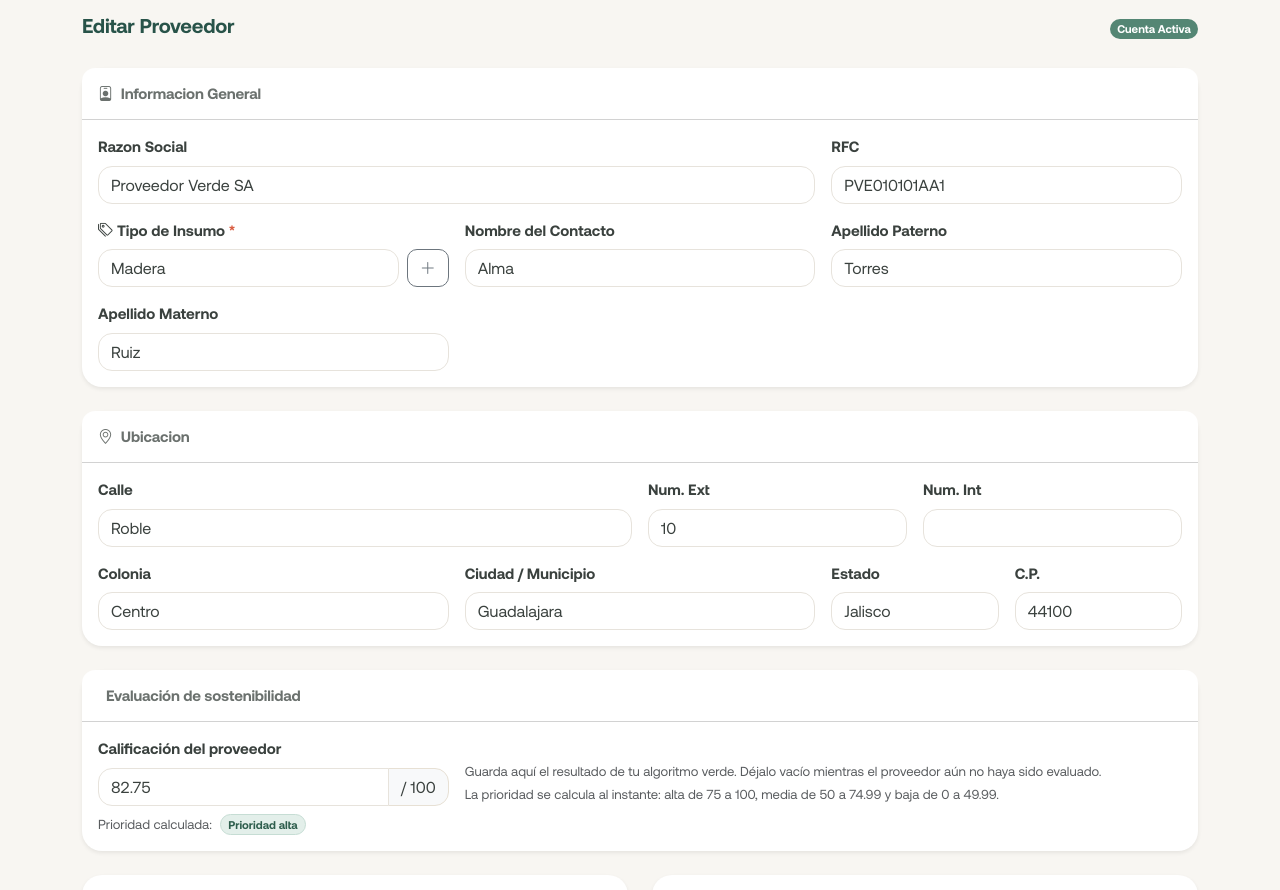
Test case: ProveedorForm › rechaza una calificacion con mas de dos decimales
Replace the text in the number field labelled "Calificación del proveedor" with "74.999": coordinates (244, 787) [98, 768, 389, 806]
(page scrolled)
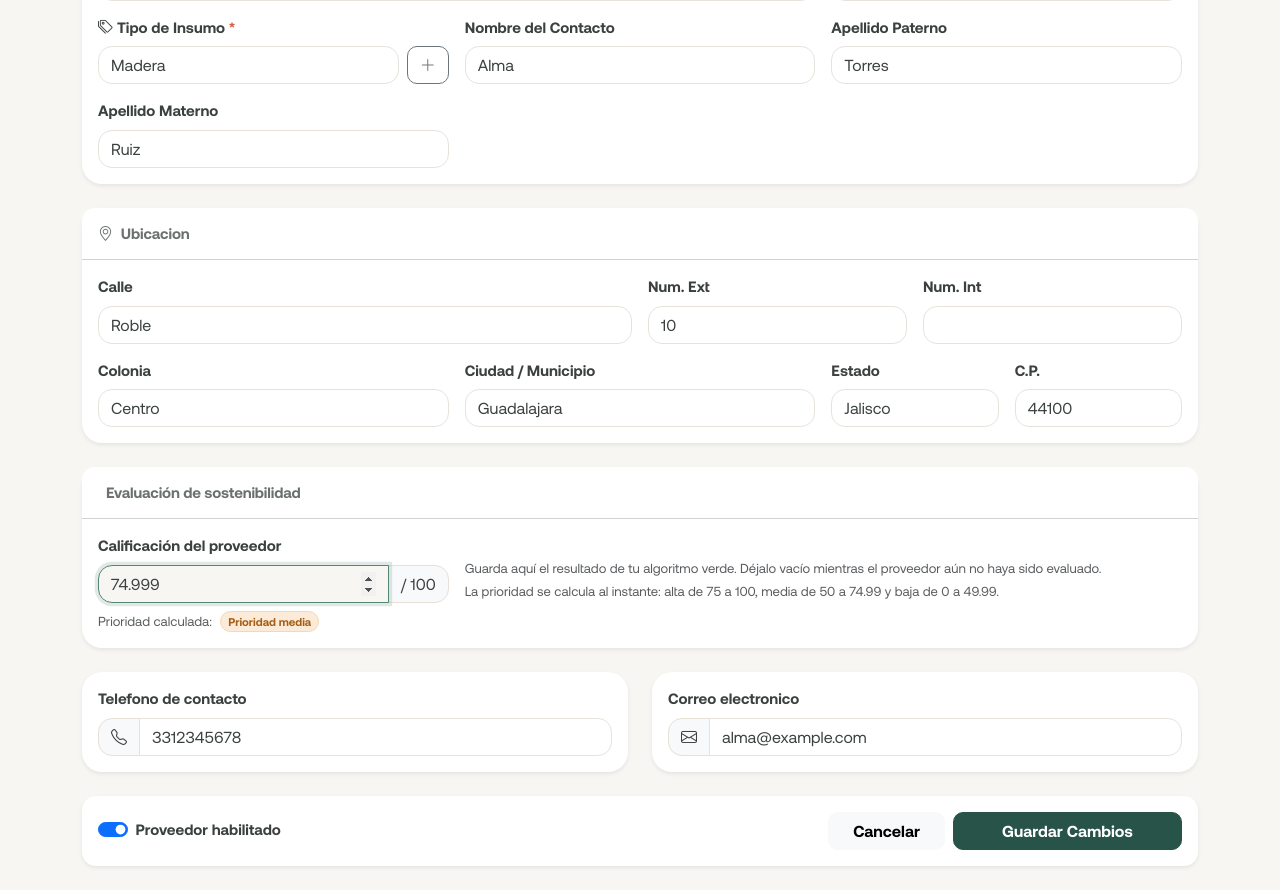
Click the button "Guardar Cambios": coordinates (1067, 831) [953, 812, 1182, 850]
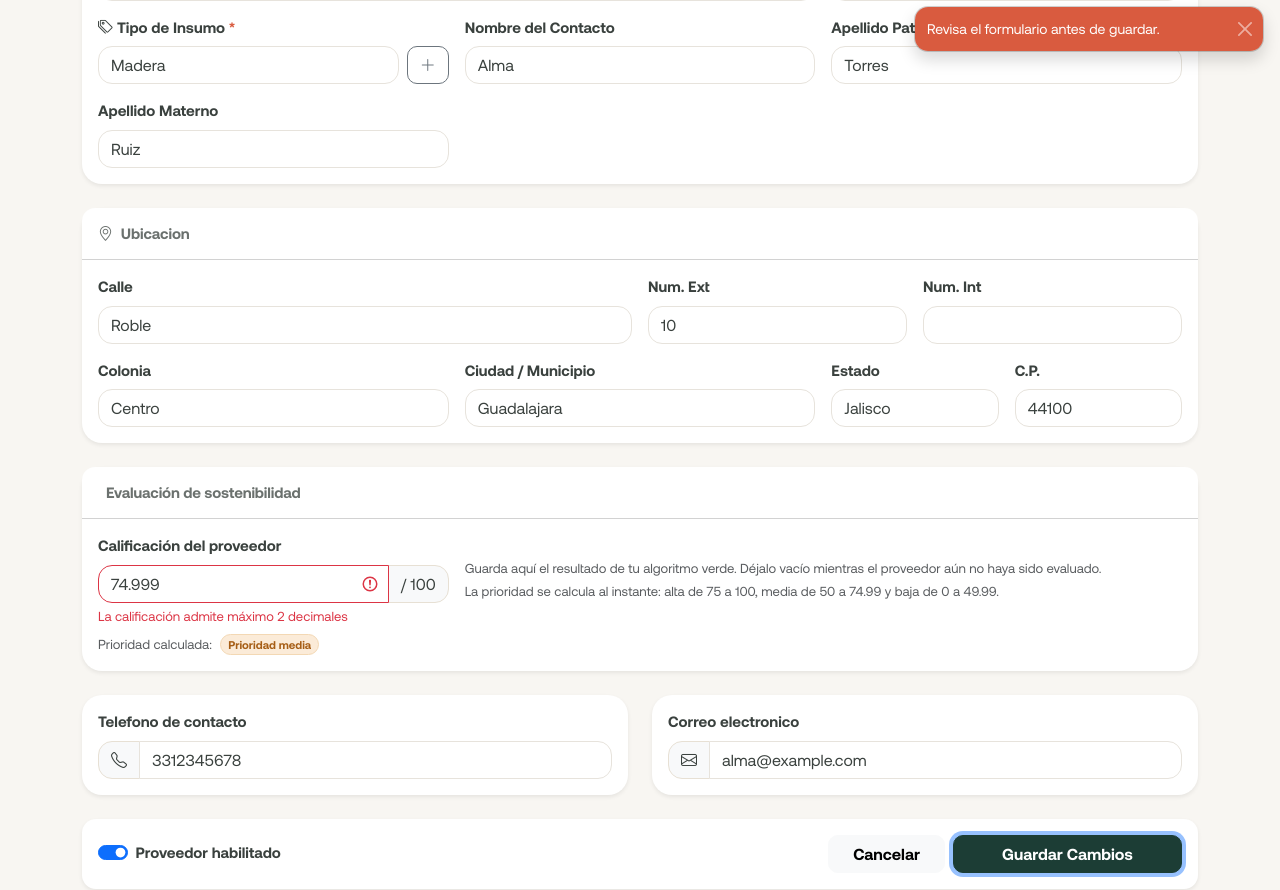
Expected: the text "La calificación admite máximo 2 decimales" is shown, [98, 608, 348, 624]
